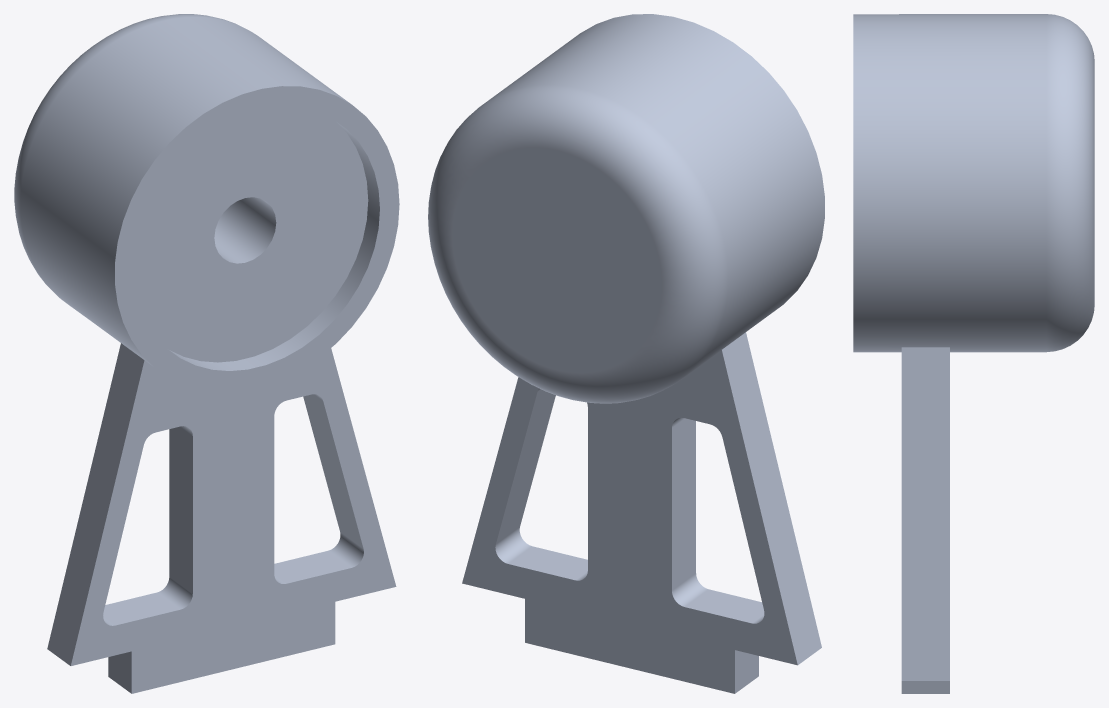
Rendered from End_Holder.gltf.
3 views of the same model, side by side, from view 1: azimuth 30°, elevation 25°; view 2: azimuth 150°, elevation 25°; view 3: azimuth 270°, elevation 25° (orthographic). The views are drawn at different scales.
Visible parts, largest first — view 1: End Holder; view 2: End Holder; view 3: End Holder.
Part boxes in pixels (left/top/right/bottom): End Holder: left=14, top=14, right=399, bottom=693; End Holder: left=428, top=14, right=824, bottom=693; End Holder: left=853, top=14, right=1094, bottom=693.
Size of the model in its own units: 0.0508 by 0.0889 by 0.0318.
